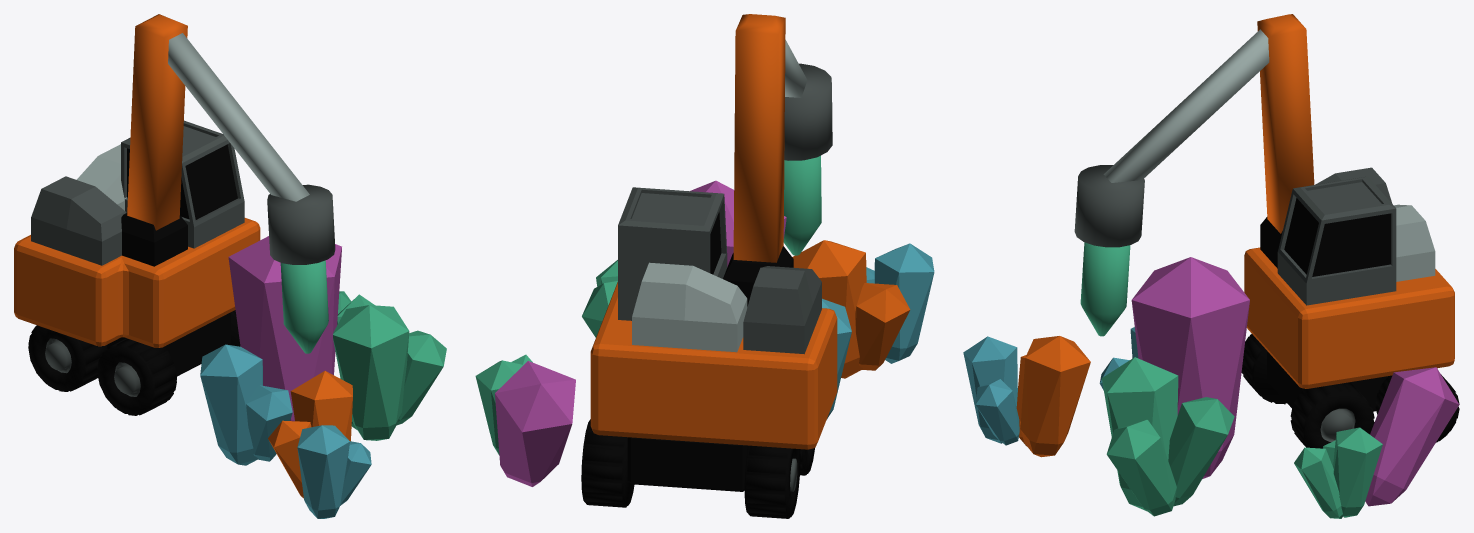
File: Building_Crystals_Harvest.fbx
3 renders of one model, left to right at view 1: azimuth 30°, elevation 25°; view 2: azimuth 150°, elevation 25°; view 3: azimuth 270°, elevation 25°, orthographic. The views are drawn at different scales.
Visible parts, largest first — view 1: Building_Crystals_Harvest; view 2: Building_Crystals_Harvest; view 3: Building_Crystals_Harvest.
Boxes of the visible parts, x1,y1,x2,y2 form: Building_Crystals_Harvest: (14, 14, 446, 518); Building_Crystals_Harvest: (475, 14, 934, 518); Building_Crystals_Harvest: (963, 14, 1459, 518).
Bounding box in the file's own units: 1.13 × 1.43 × 1.53.
